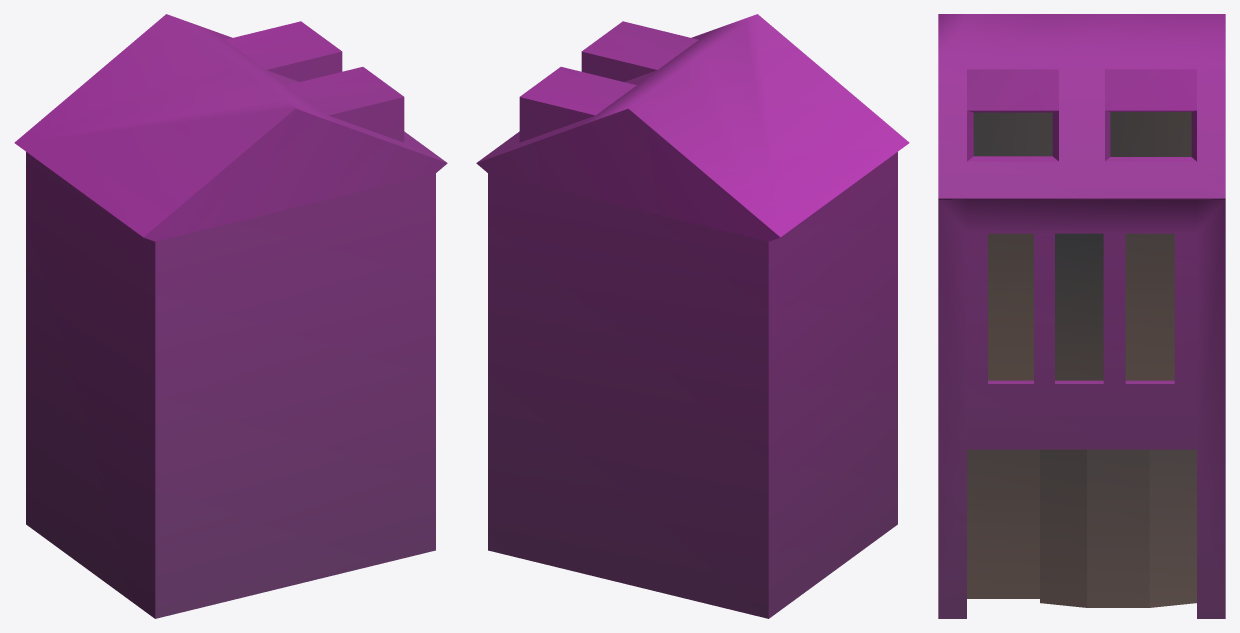
File: Building 1.fbx
3 renders of one model, left to right at view 1: azimuth 30°, elevation 25°; view 2: azimuth 150°, elevation 25°; view 3: azimuth 270°, elevation 25°, orthographic. The views are drawn at different scales.
Visible parts, largest first — view 1: buliding_1_var_1; view 2: buliding_1_var_1; view 3: buliding_1_var_1.
Boxes of the visible parts, x1,y1,x2,y2 form: buliding_1_var_1: (14,14,447,618); buliding_1_var_1: (476,14,909,618); buliding_1_var_1: (938,14,1225,618).
Bounding box in the file's own units: 4.11 × 6.14 × 3.02.
